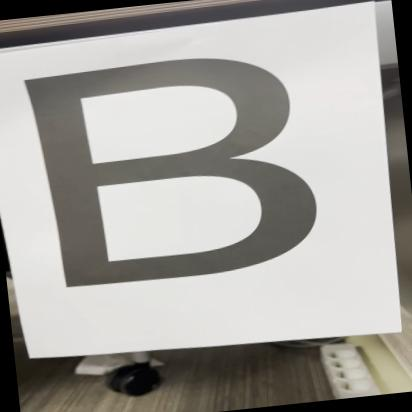seat: (3, 36, 351, 306)
